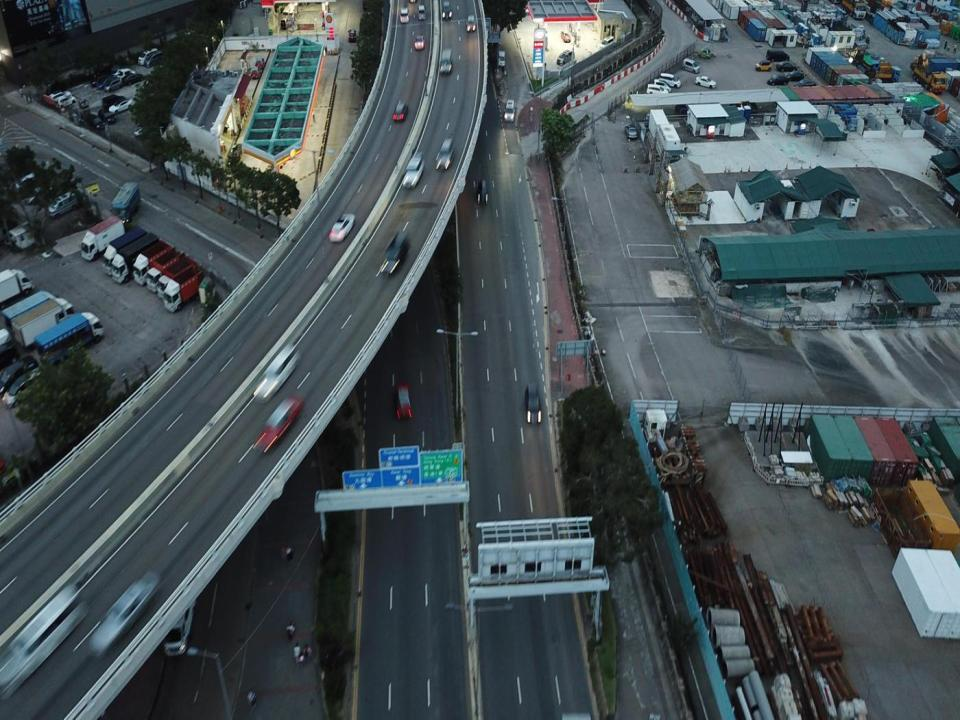bus: (106, 180, 144, 221)
car: (0, 586, 83, 695), (86, 567, 165, 660), (254, 394, 306, 452), (250, 346, 301, 401), (164, 586, 198, 659), (1, 356, 38, 402), (376, 229, 410, 277), (5, 366, 44, 406), (398, 155, 426, 189), (523, 382, 544, 425), (392, 380, 414, 420), (328, 213, 356, 240), (435, 135, 455, 169), (42, 85, 74, 103), (82, 112, 110, 132), (100, 88, 130, 106), (438, 47, 456, 76), (474, 176, 490, 207), (106, 97, 134, 113), (658, 70, 682, 88), (54, 92, 80, 108), (650, 76, 672, 94), (97, 77, 121, 92), (98, 103, 119, 120), (645, 83, 667, 99), (695, 74, 717, 89), (392, 102, 408, 122), (119, 72, 143, 85), (556, 48, 573, 66), (110, 66, 132, 79), (624, 122, 639, 141), (681, 58, 701, 72), (504, 99, 516, 122), (767, 74, 788, 86), (464, 13, 477, 32), (755, 58, 771, 73), (398, 6, 411, 24), (597, 34, 613, 48), (777, 61, 797, 72), (413, 33, 425, 50), (497, 50, 508, 68), (346, 27, 358, 43), (441, 2, 452, 19), (558, 29, 570, 44), (699, 47, 712, 60), (416, 6, 428, 19), (788, 70, 801, 82), (795, 78, 813, 86)
truck: (36, 312, 107, 362), (16, 296, 75, 347), (0, 287, 60, 336), (111, 229, 162, 282), (101, 225, 149, 274), (148, 255, 198, 300), (78, 214, 126, 260), (162, 267, 208, 314), (131, 239, 173, 285), (911, 50, 948, 96), (145, 250, 185, 292), (0, 263, 38, 303), (48, 189, 80, 215)
van: (136, 49, 161, 68), (144, 50, 165, 68), (767, 48, 791, 63)
